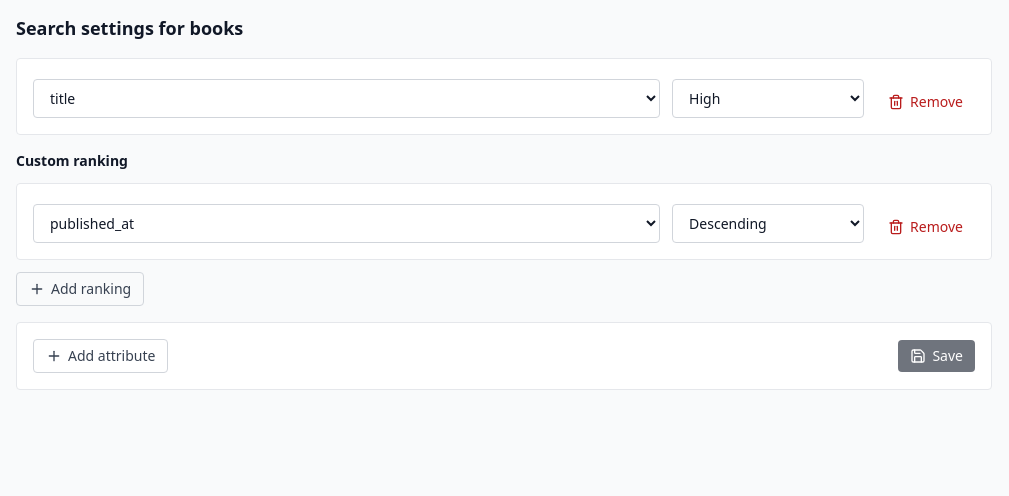
Test: SearchSettingsEditor › supports adding, editing, and removing custom ranking rows
Expected: the heading "Search settings for books" is shown, [16,16,243,40]
Click the button "Add ranking" at point(80, 289), box [16,272,144,306]
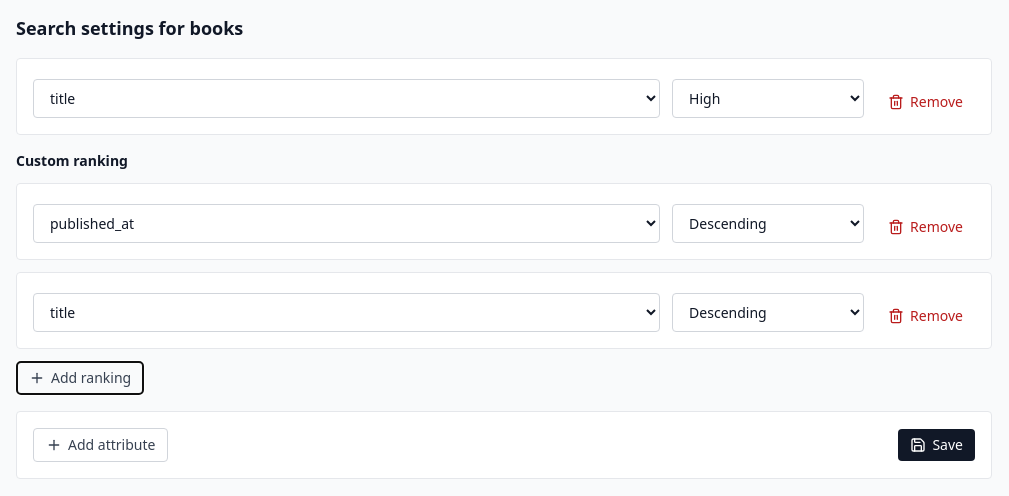
Now the number of elements "Remove" is 2, box [16,183,992,260]; [16,272,992,349]
Select "page_count" in the dropdown named "Ranking column for row 2" at point(347, 312), box [33,293,660,332]
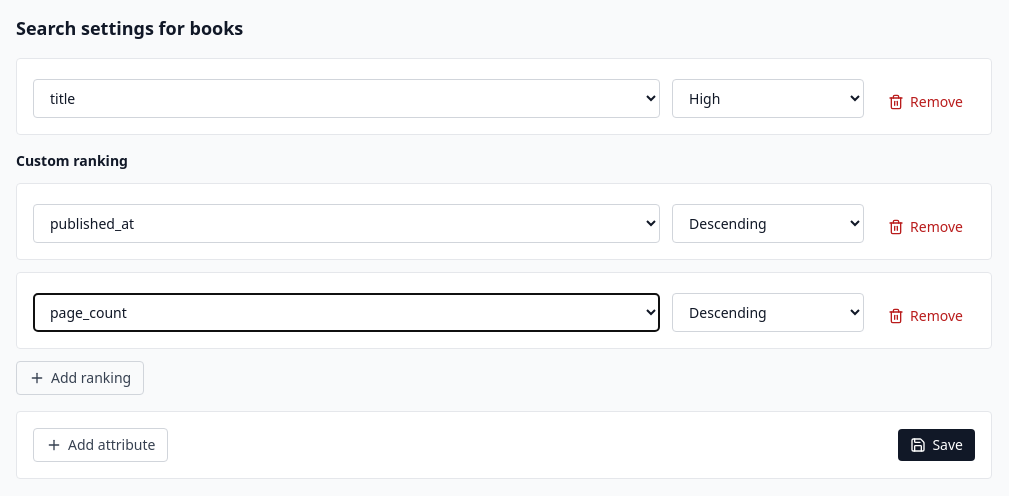
Select "Ascending" in the dropdown named "Ranking order for row 2" at point(768, 312), box [672,293,864,332]
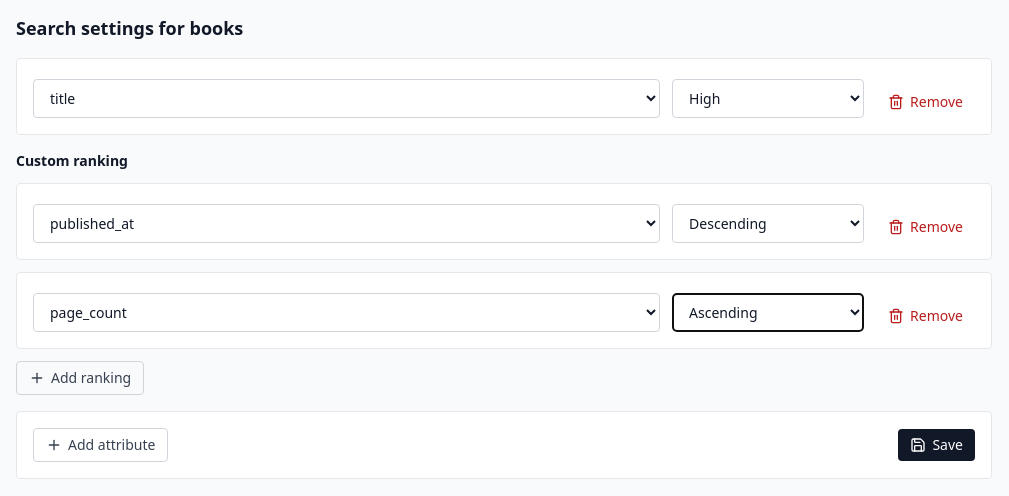
Now the button "Save" is enabled, box [898,429,975,461]
Click the button with aria-label "Remove ranking" at point(926, 227), box [876,211,975,243]
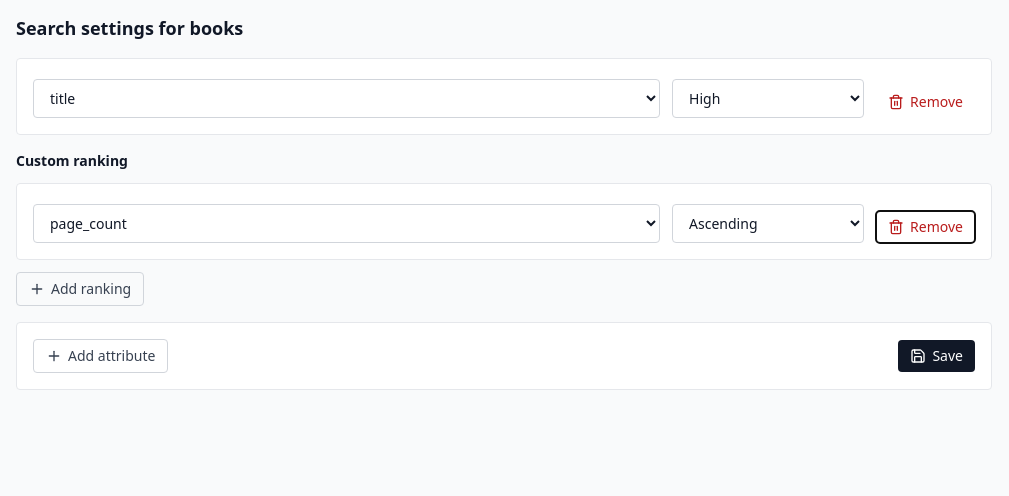
Now the number of elements "Remove" is 1, box [16,183,992,260]
Now the dropdown named "Ranking column for row 1" shows "page_count", box [33,204,660,243]
